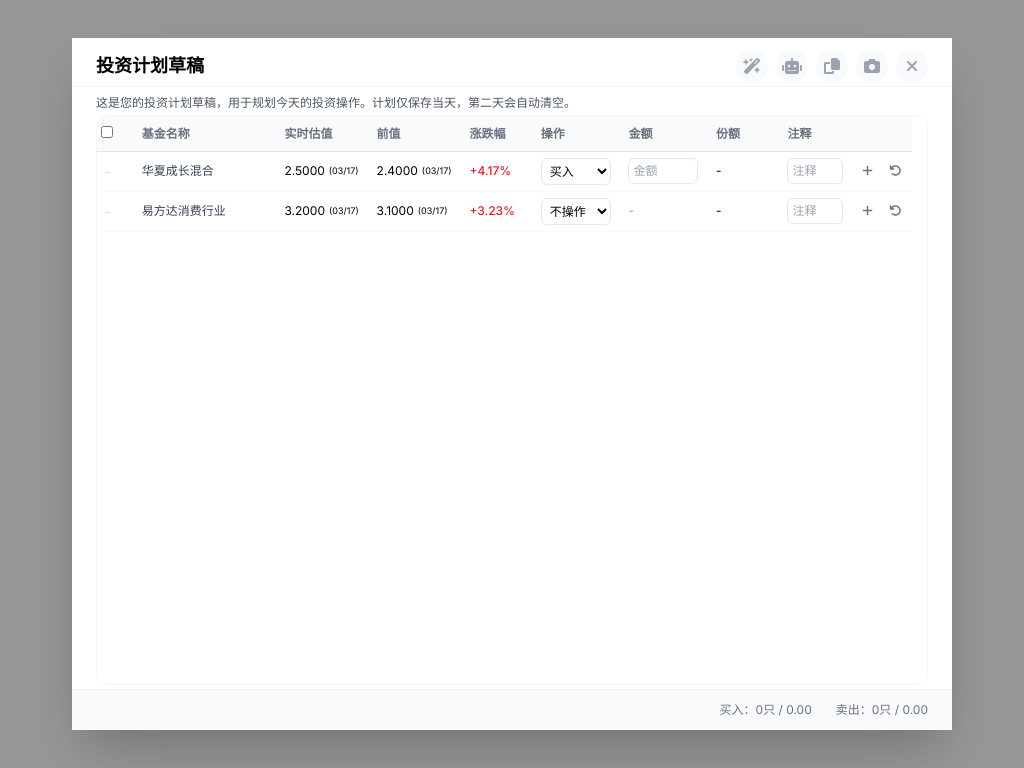
InvestmentDraftModal › updates amount and calculates shares
// Select '买入' operation first
Select "买入" in the dropdown in the row of "华夏成长混合" at x=576, y=171, box [541, 158, 611, 185]
// Input amount
Type "1000" into the field with placeholder "金额" at x=663, y=171, box [628, 158, 698, 184]
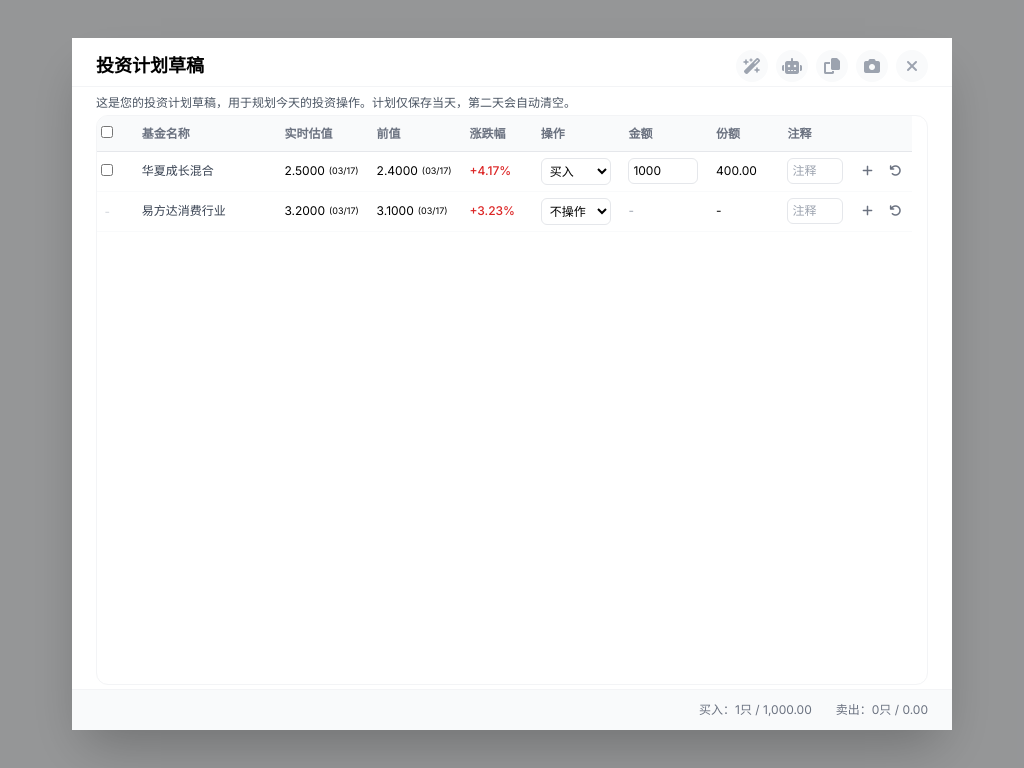
Now the text "400.00" is shown, box [716, 163, 757, 178]
